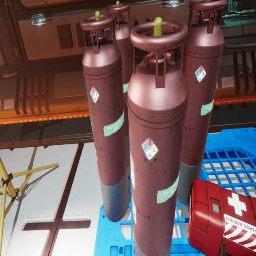FirstAidBox ,: (188, 178, 256, 256)
NitrogenTank ,: (127, 17, 188, 256), (80, 11, 129, 222), (177, 0, 227, 204), (106, 1, 134, 169)
